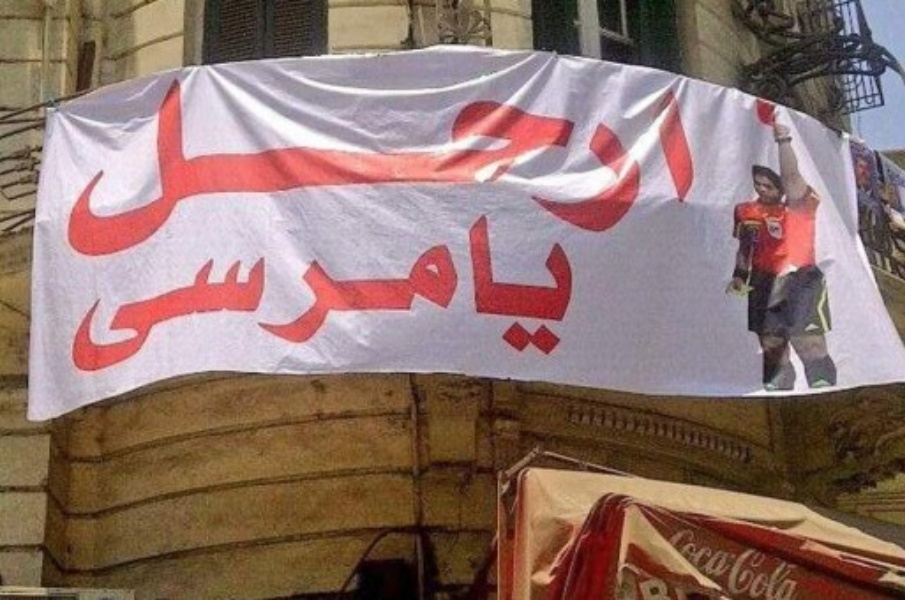text: (97, 73, 112, 260), (113, 73, 128, 260), (129, 73, 144, 260), (145, 73, 160, 260), (161, 73, 176, 260), (177, 73, 192, 260), (193, 73, 208, 260), (209, 73, 224, 260), (225, 73, 240, 260), (241, 73, 256, 260), (257, 73, 272, 260), (273, 73, 288, 260), (289, 73, 304, 260), (305, 73, 320, 260), (321, 73, 336, 260), (337, 73, 352, 260), (353, 73, 368, 260), (369, 73, 384, 260), (385, 73, 400, 260), (401, 73, 416, 260), (417, 73, 432, 260), (433, 73, 448, 260), (449, 73, 464, 260), (465, 73, 480, 260), (481, 73, 496, 260), (497, 73, 512, 260), (513, 73, 528, 260), (529, 73, 544, 260), (545, 73, 560, 260), (561, 73, 576, 260), (577, 73, 592, 260), (593, 73, 608, 260), (609, 73, 624, 260), (625, 73, 640, 260), (641, 73, 656, 260), (657, 73, 672, 260), (673, 73, 688, 260), (83, 73, 96, 260), (689, 73, 701, 260), (481, 212, 496, 355), (497, 212, 512, 355), (513, 212, 528, 355), (529, 212, 544, 355), (545, 212, 560, 355), (81, 235, 96, 375), (97, 235, 112, 375), (113, 235, 128, 375), (129, 235, 144, 375), (145, 235, 160, 375), (161, 235, 176, 375), (177, 235, 192, 375), (193, 235, 208, 375), (209, 235, 224, 375), (225, 235, 240, 375), (241, 235, 256, 375), (257, 235, 272, 375), (273, 235, 288, 375), (289, 235, 304, 375), (305, 235, 320, 375), (321, 235, 336, 375), (337, 235, 352, 375), (353, 235, 368, 375), (369, 235, 384, 375), (385, 235, 400, 375), (401, 235, 416, 375), (417, 235, 432, 375), (433, 235, 448, 375), (561, 212, 574, 355), (468, 212, 480, 355), (449, 235, 459, 375), (689, 512, 704, 600), (705, 512, 720, 600), (721, 512, 736, 600), (737, 512, 752, 600), (753, 512, 768, 600), (769, 512, 784, 600), (785, 512, 800, 600), (674, 512, 688, 600), (75, 235, 80, 375), (801, 512, 807, 600)
